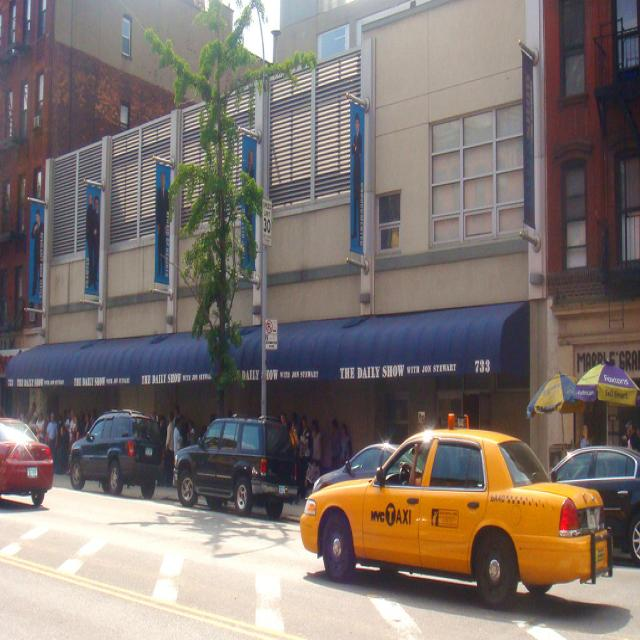car: (302, 414, 615, 606), (173, 415, 299, 516), (70, 408, 164, 492)
